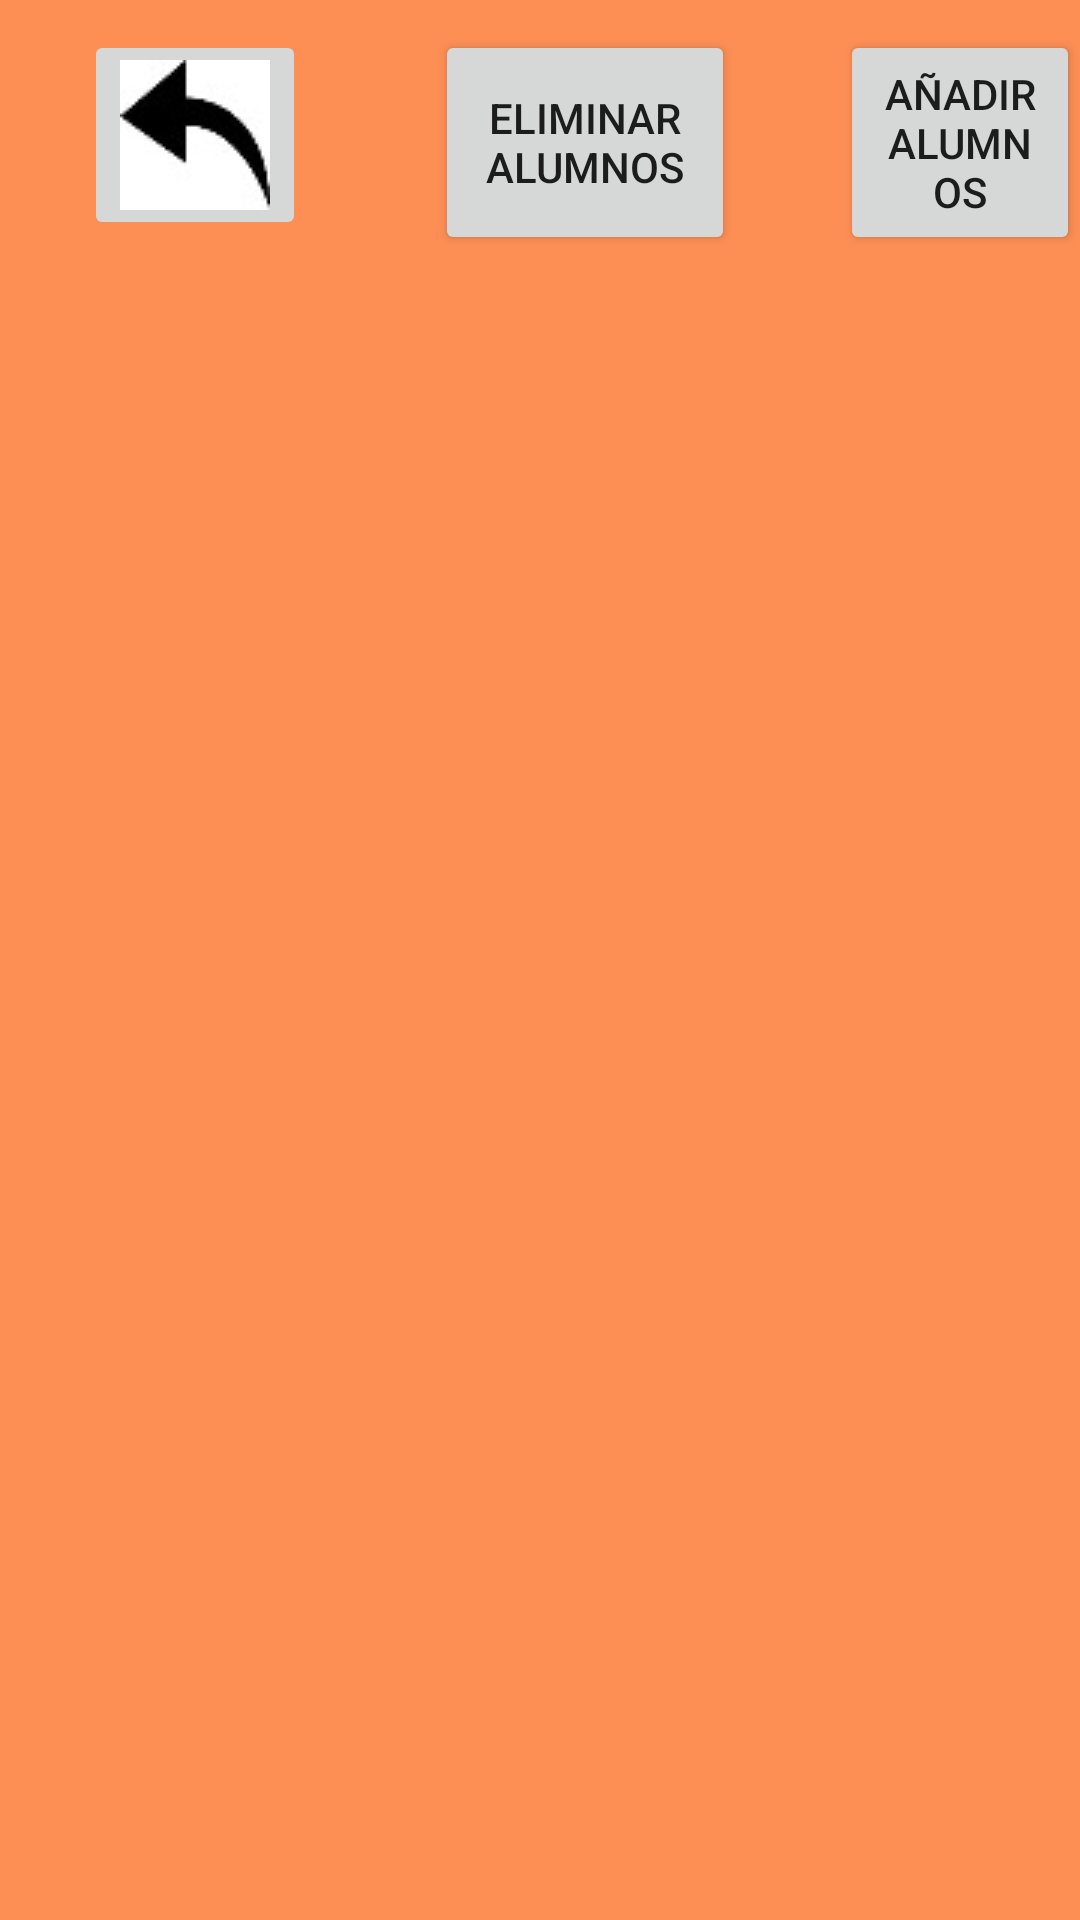

Screen size 1080 x 1920. Icon name, then its center in pixels as (x=x, y=y):
volver: (x=195, y=135)
